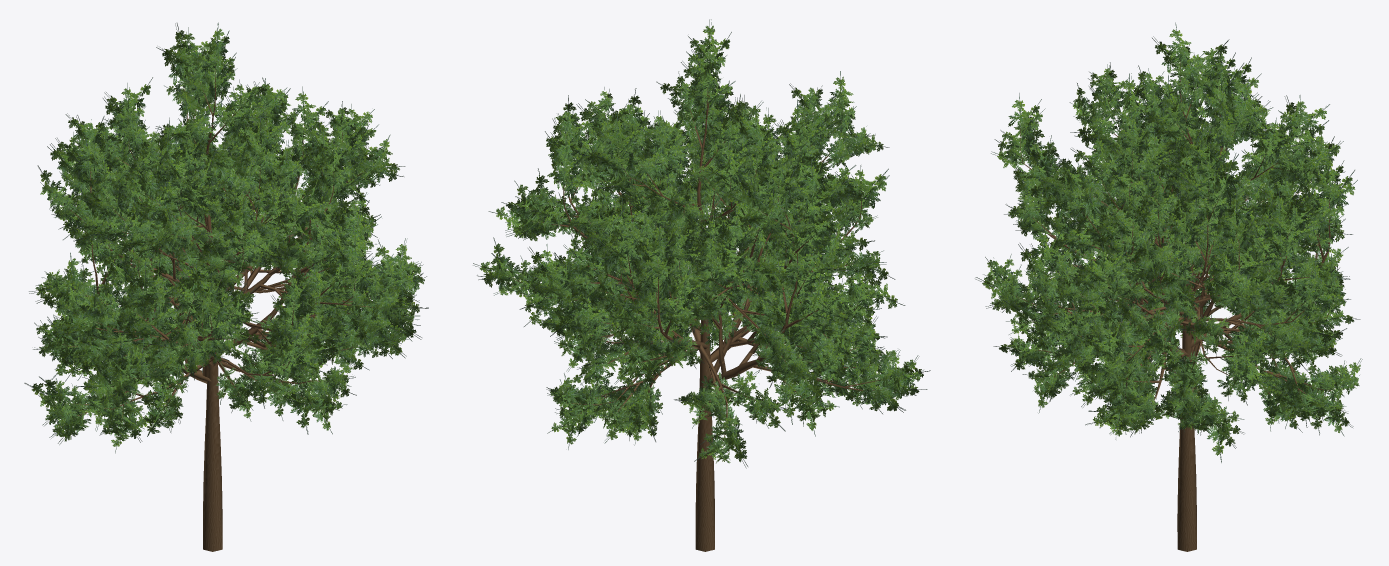
The model's file is oak-v3.glb.
3 views of the same model, side by side, from view 1: azimuth 30°, elevation 25°; view 2: azimuth 150°, elevation 25°; view 3: azimuth 270°, elevation 25° (orthographic).
Visible parts, largest first — view 1: leaves, branches; view 2: leaves, branches; view 3: leaves, branches.
Boxes of the visible parts, left/top/right/bottom form: leaves: left=24, top=22, right=428, bottom=453; branches: left=62, top=61, right=384, bottom=551; leaves: left=473, top=19, right=930, bottom=468; branches: left=511, top=87, right=888, bottom=551; leaves: left=975, top=22, right=1362, bottom=462; branches: left=1016, top=60, right=1343, bottom=551.
Size of the model in its own units: 5.93 by 7.3 by 5.15.
Materials: 2 (2 with a texture image).
